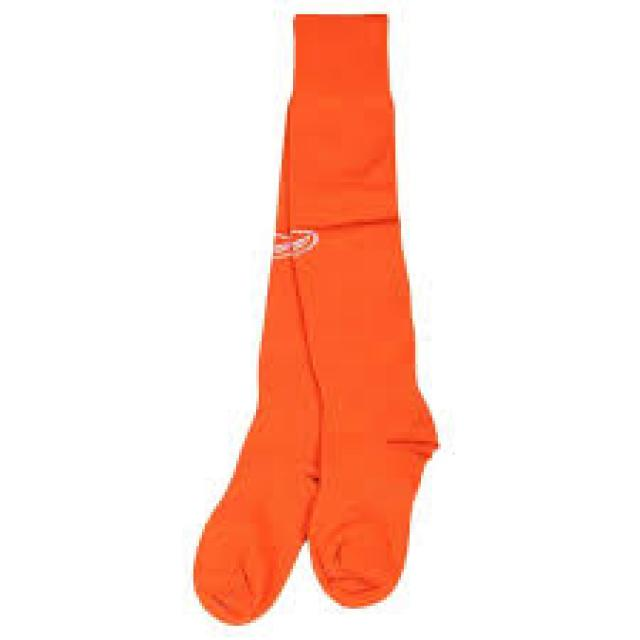sock: (191, 8, 438, 623)
